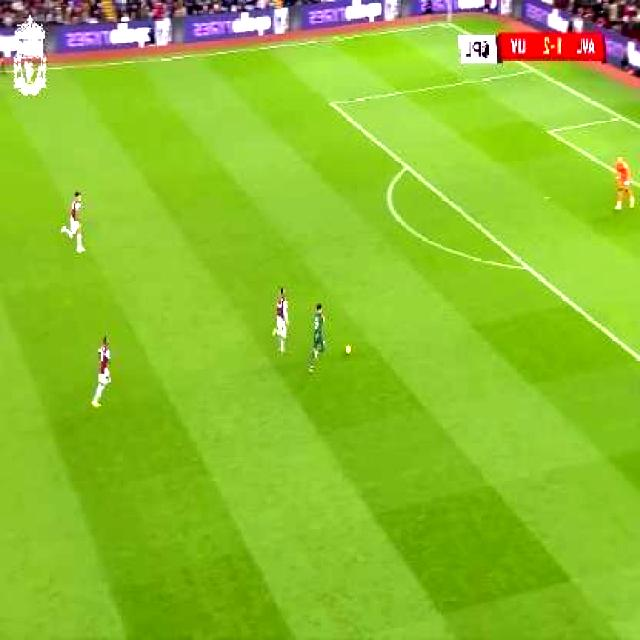bigarea_top_inner: (325, 92, 340, 112)
bigarea_top_outter: (614, 108, 629, 124), (525, 61, 540, 76)
bottom_arc_area_intersection: (520, 255, 537, 277)
corner: (438, 16, 458, 30)
smallarea_top_inner: (543, 122, 560, 140)
smallarea_top_outter: (614, 108, 629, 124)
top_arc_area_intersection: (400, 156, 415, 176)
